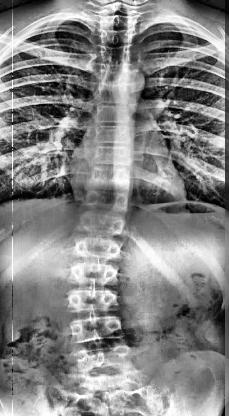Vertebrae: (72, 344, 130, 376), (68, 316, 126, 341), (69, 261, 122, 287), (68, 286, 120, 312), (74, 238, 130, 262), (82, 192, 132, 218), (74, 212, 128, 236), (94, 102, 137, 130), (88, 166, 134, 192), (95, 124, 141, 148), (91, 146, 139, 168), (100, 44, 140, 68), (94, 84, 136, 106), (94, 66, 136, 86), (101, 27, 137, 48)
